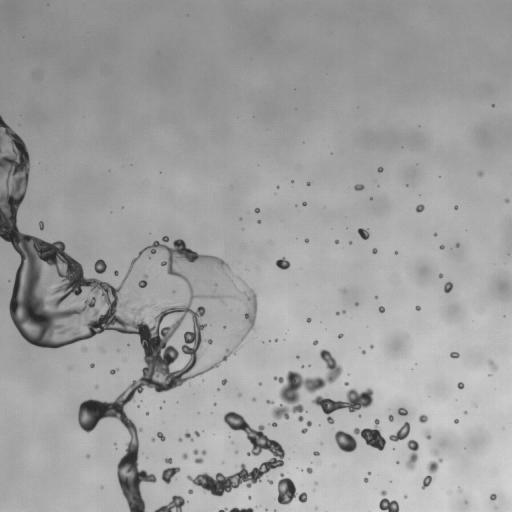droplet: (187, 411, 284, 496), (334, 419, 386, 452), (277, 473, 307, 504), (379, 490, 399, 511), (161, 467, 180, 483), (94, 259, 106, 273), (275, 258, 290, 269), (138, 274, 147, 288), (358, 228, 369, 239), (488, 360, 497, 371), (444, 282, 452, 293), (423, 429, 431, 439), (419, 414, 427, 423), (157, 432, 165, 441), (416, 204, 424, 212), (398, 408, 407, 415), (354, 184, 364, 190), (450, 352, 459, 358), (457, 382, 464, 389), (110, 368, 117, 374), (490, 493, 496, 500), (195, 458, 203, 463), (306, 467, 312, 473), (165, 458, 172, 463), (39, 221, 43, 229), (377, 167, 383, 172), (379, 306, 384, 312), (221, 379, 226, 385), (388, 415, 393, 421), (306, 421, 311, 427), (301, 428, 307, 433), (182, 453, 187, 459), (266, 400, 273, 404), (372, 248, 377, 253), (338, 333, 343, 338), (313, 340, 318, 345), (298, 416, 303, 421), (194, 431, 199, 436), (201, 450, 206, 455), (188, 489, 193, 494), (313, 451, 319, 455), (478, 171, 482, 176), (254, 208, 259, 212), (114, 270, 118, 275), (415, 306, 420, 310), (306, 318, 311, 322), (271, 422, 276, 426), (193, 450, 198, 454), (268, 479, 272, 484), (363, 478, 368, 482), (458, 487, 462, 492), (302, 202, 306, 206), (454, 205, 458, 209), (304, 238, 308, 242), (440, 245, 444, 249), (361, 350, 365, 354), (90, 363, 94, 367), (454, 419, 458, 423), (439, 273, 442, 278), (505, 199, 509, 202), (335, 240, 339, 243), (434, 451, 437, 455), (307, 182, 310, 185), (257, 220, 260, 223), (223, 326, 226, 329), (370, 345, 373, 348), (345, 382, 348, 385), (151, 438, 154, 441), (178, 438, 181, 441), (86, 454, 89, 457), (404, 495, 407, 498), (248, 496, 251, 499), (276, 186, 279, 188), (434, 233, 436, 236), (456, 244, 459, 246), (343, 289, 345, 292), (355, 303, 358, 305), (343, 310, 345, 313), (336, 312, 339, 314), (82, 348, 85, 350), (259, 382, 261, 385), (239, 393, 241, 396), (252, 398, 255, 400), (464, 411, 467, 413), (100, 486, 103, 488), (395, 251, 397, 253), (275, 339, 277, 341), (296, 356, 298, 358), (95, 386, 97, 388), (214, 403, 216, 405), (368, 472, 370, 474), (315, 482, 317, 484)
ligament: (0, 116, 257, 511), (272, 349, 342, 419), (312, 388, 373, 423), (421, 458, 442, 489), (154, 495, 185, 511), (389, 422, 410, 441), (406, 440, 419, 469), (219, 507, 253, 511), (185, 432, 193, 440), (137, 307, 143, 313)
